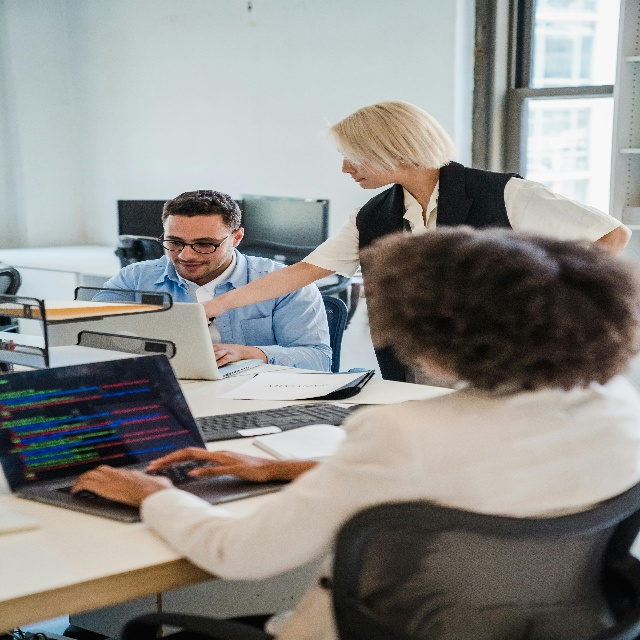Gafas: (157, 229, 236, 254)
Sin_guantes: (146, 446, 274, 484), (71, 466, 171, 509), (212, 342, 245, 368), (200, 295, 225, 325)
